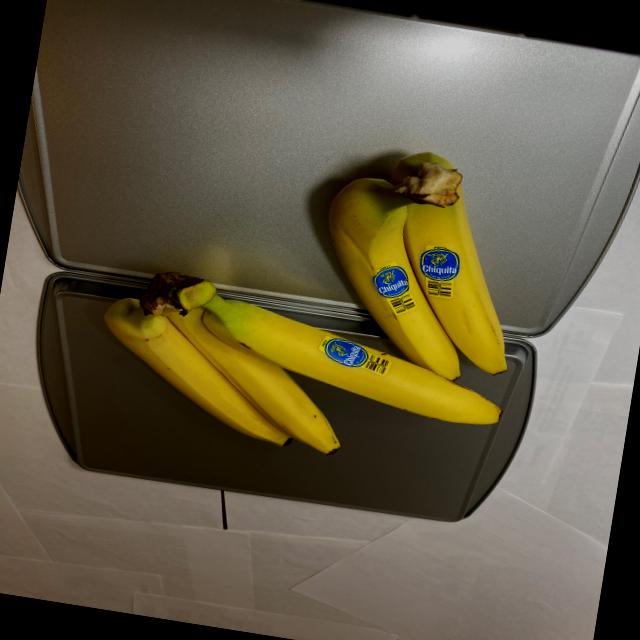banana: (84, 106, 544, 485)
